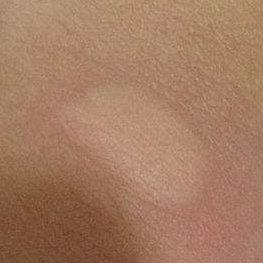Mosquito: (41, 51, 236, 223)
